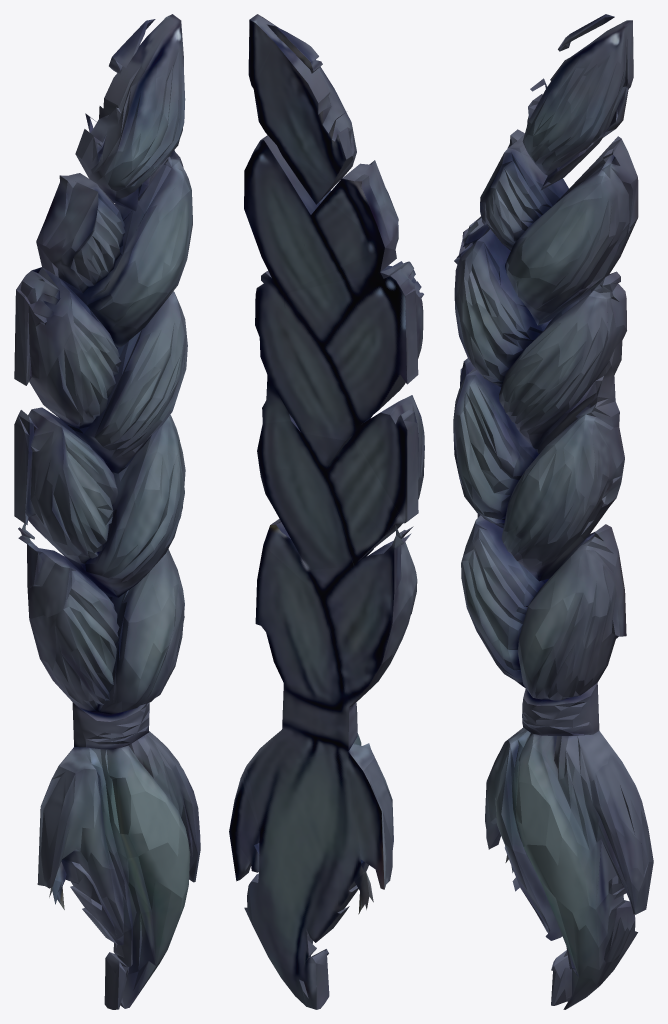
The model's file is nerith_m-meche-2-tresse-fine.glb.
3 renders of one model, left to right at view 1: azimuth 30°, elevation 25°; view 2: azimuth 150°, elevation 25°; view 3: azimuth 330°, elevation 25°, orthographic. The views are drawn at different scales.
Parts seen in each view (by area): view 1: geometry_0; view 2: geometry_0; view 3: geometry_0.
Part boxes in pixels (box(x1,y1,x2,y2)): geometry_0: box(14, 14, 200, 1009); geometry_0: box(229, 14, 424, 1009); geometry_0: box(453, 14, 653, 1009).
Size of the model in its own units: 0.3632 by 1.9 by 0.1505.
1 material, 1 textured.
